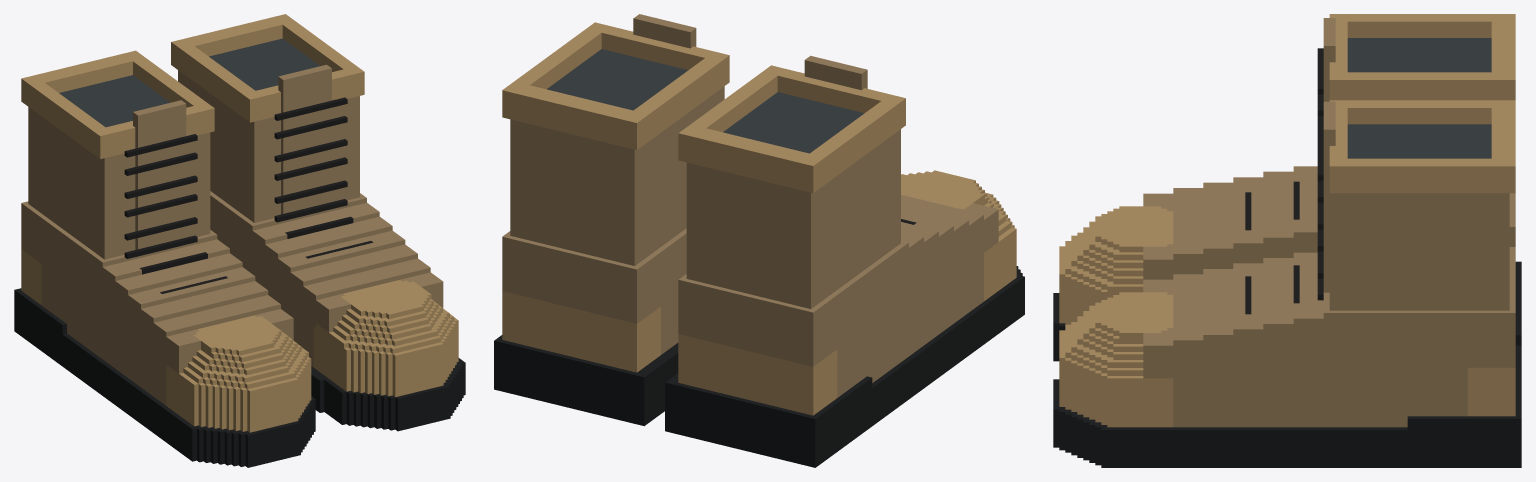
The model's file is boots_combat.glb.
3 views of the same model, side by side, from view 1: azimuth 30°, elevation 25°; view 2: azimuth 150°, elevation 25°; view 3: azimuth 270°, elevation 25° (orthographic). The views are drawn at different scales.
Parts seen in each view (by area): view 1: boots_combat:compound; view 2: boots_combat:compound; view 3: boots_combat:compound.
Boxes of the visible parts, left/top/right/bottom form: boots_combat:compound: left=14, top=14, right=465, bottom=467; boots_combat:compound: left=494, top=14, right=1024, bottom=467; boots_combat:compound: left=1053, top=14, right=1521, bottom=467.
Size of the model in its own units: 0.248 by 0.232 by 0.312.
